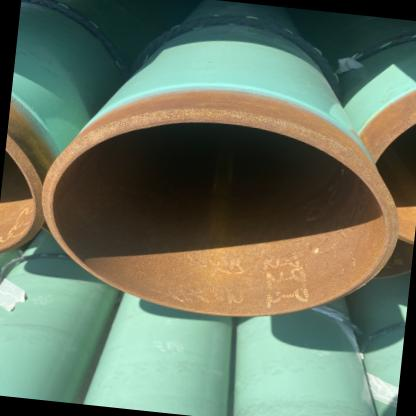clean: (207, 292, 240, 325)
